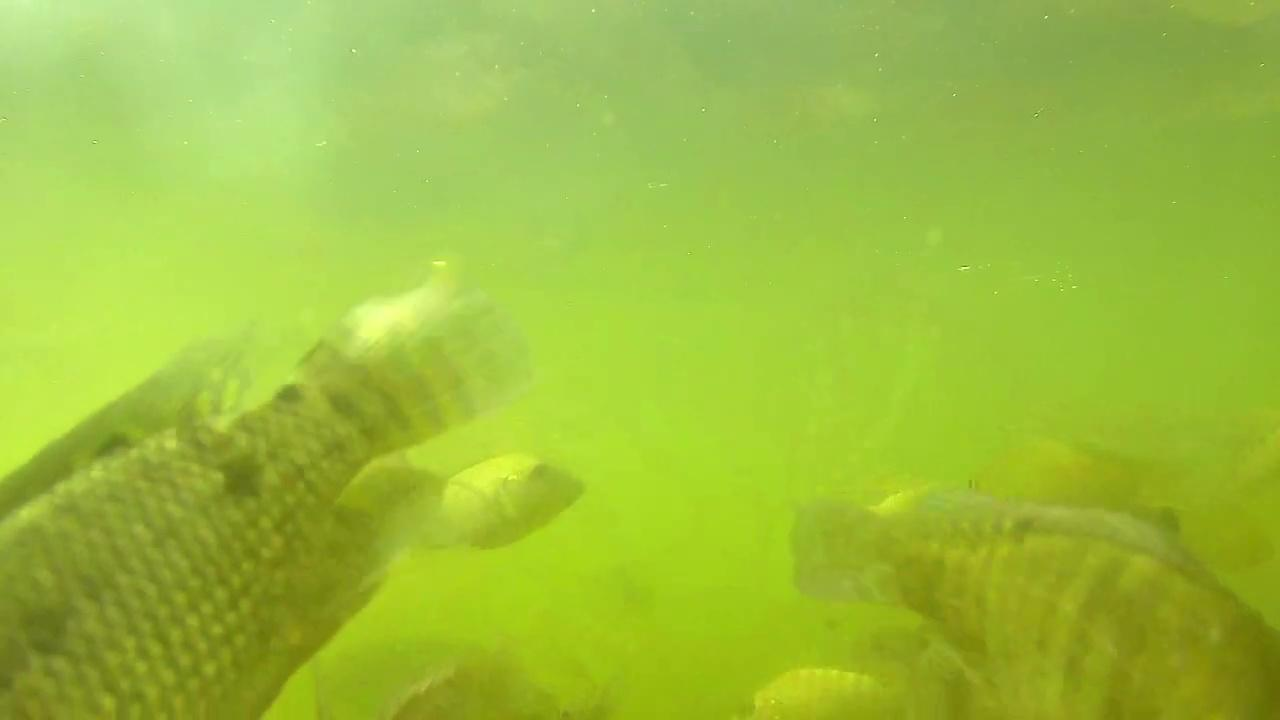Tilapia: (421, 446, 596, 570)
